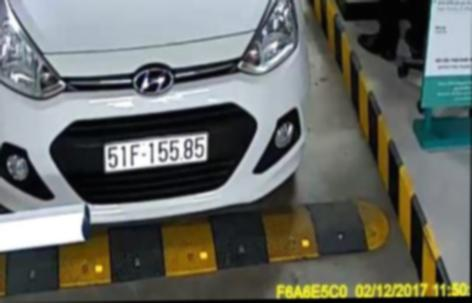License_Plate: (99, 134, 214, 173)
